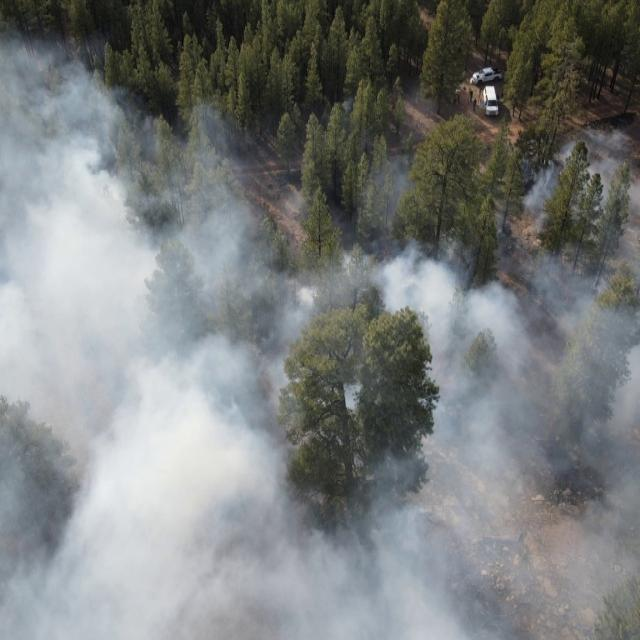smoke: (250, 154, 640, 640), (103, 107, 250, 640), (0, 35, 102, 640), (554, 130, 632, 156), (102, 89, 122, 108), (342, 96, 357, 115)
